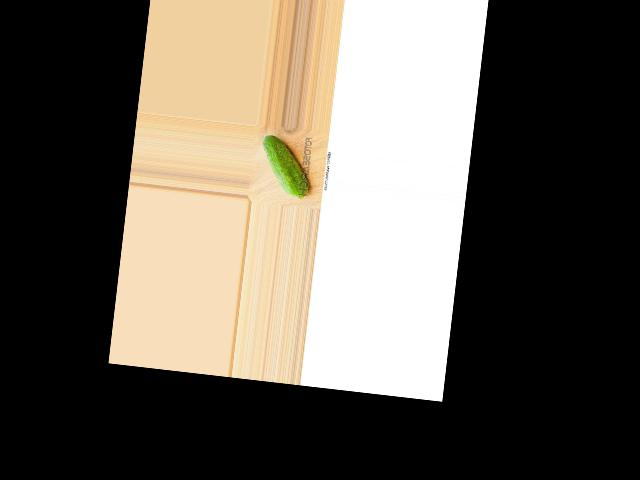cucumber: (256, 134, 314, 200)
